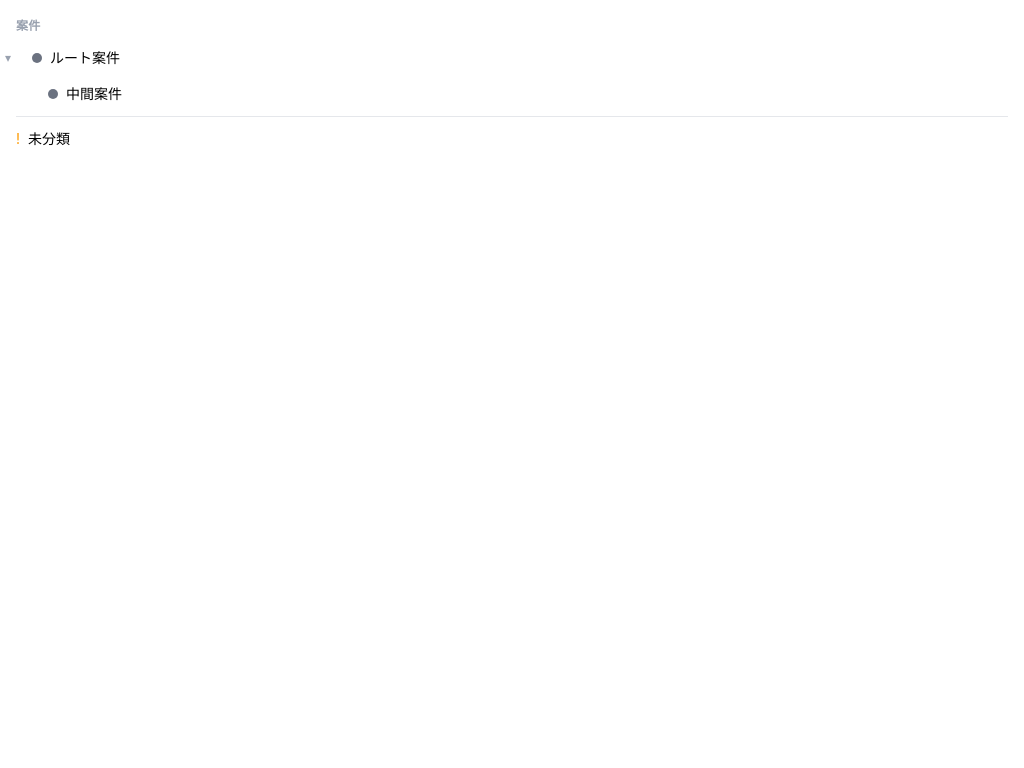
ProjectTree nested rendering › move dialog disables self and descendants
Expected: the text "ルート案件" is shown, [50,48,120,68]
Right-click the button "ルート案件" at [85, 58], box [16,40,1023,76]
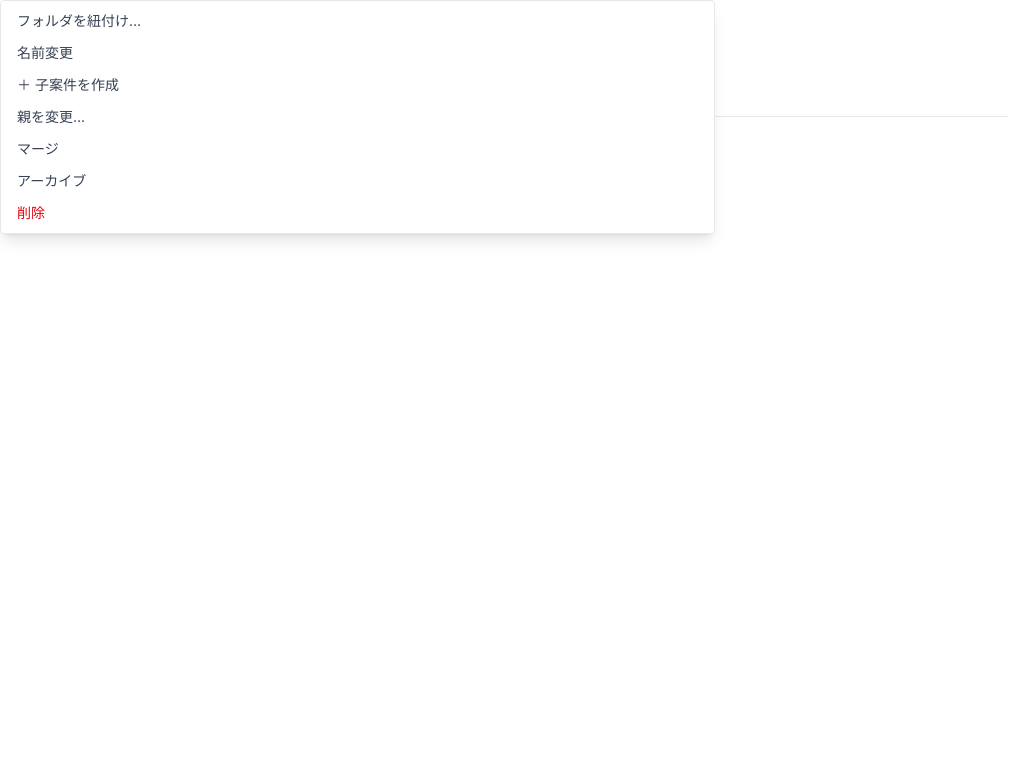
Click the button "親を変更...". click: [51, 116]
box: [1,101,714,133]
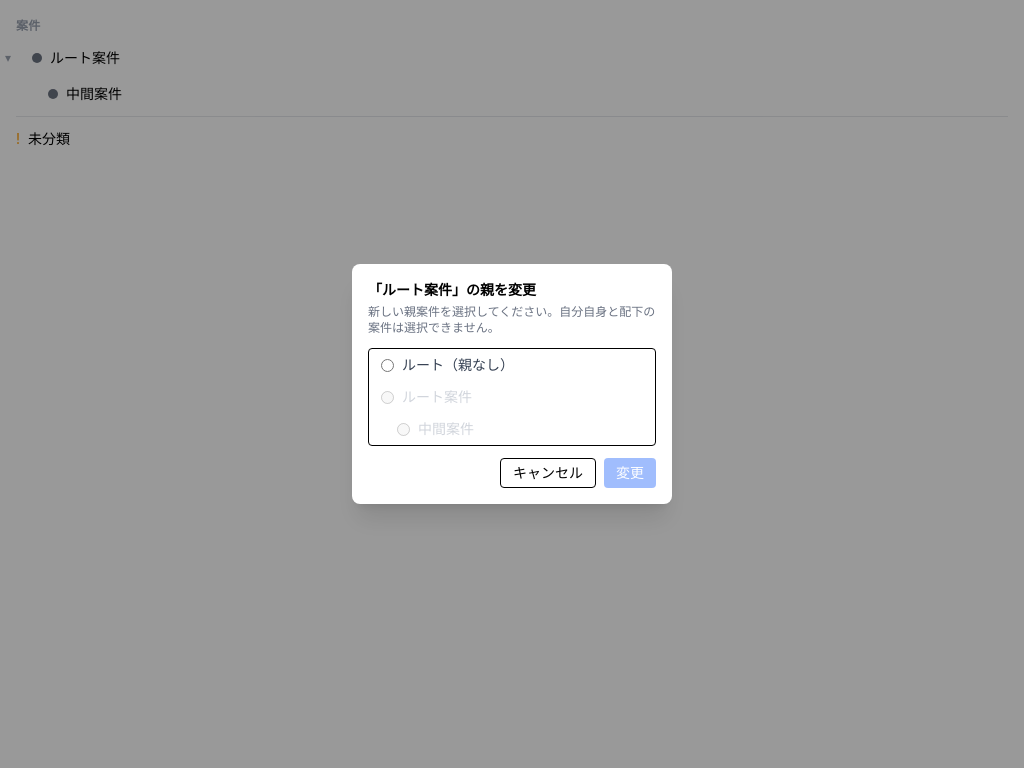
Expected: the radio button labelled "ルート案件" is disabled, [381,390,394,404]
Expected: the radio button labelled "中間案件" is disabled, [397,422,410,436]
